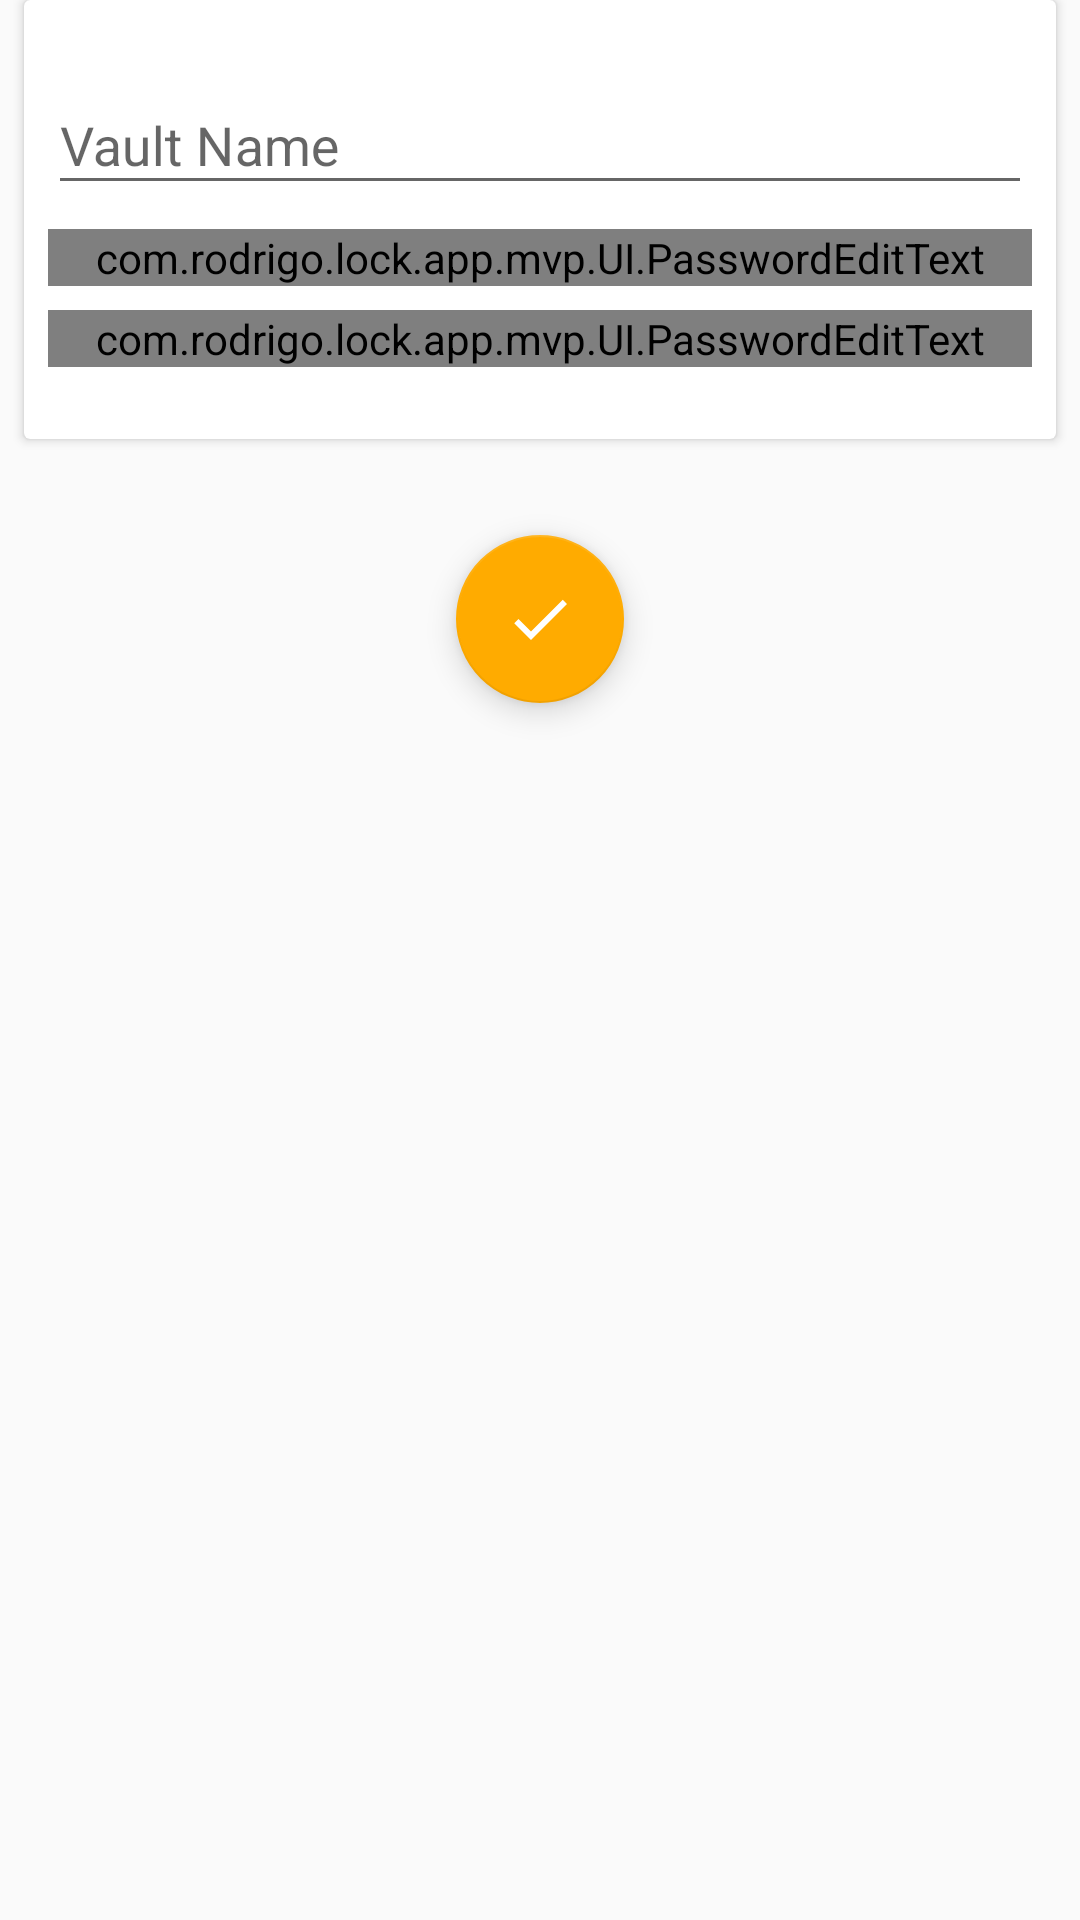

Icon click points for this 1080px x 1920px phone screenshot, format [x,y]:
done: [540,619]
